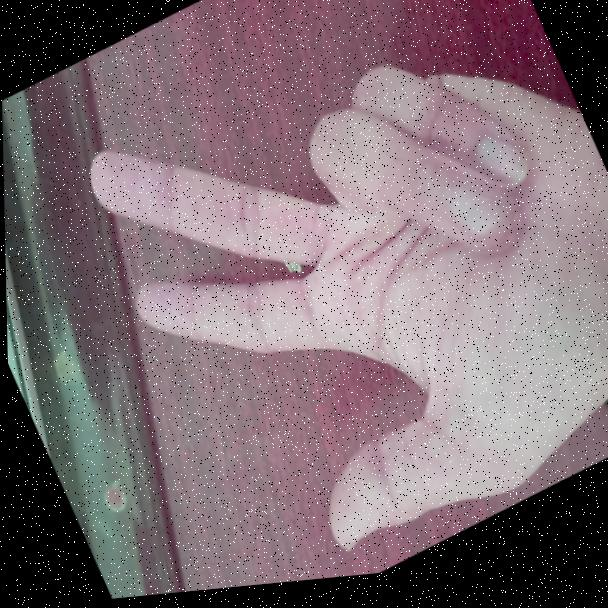three: (43, 0, 608, 605)
